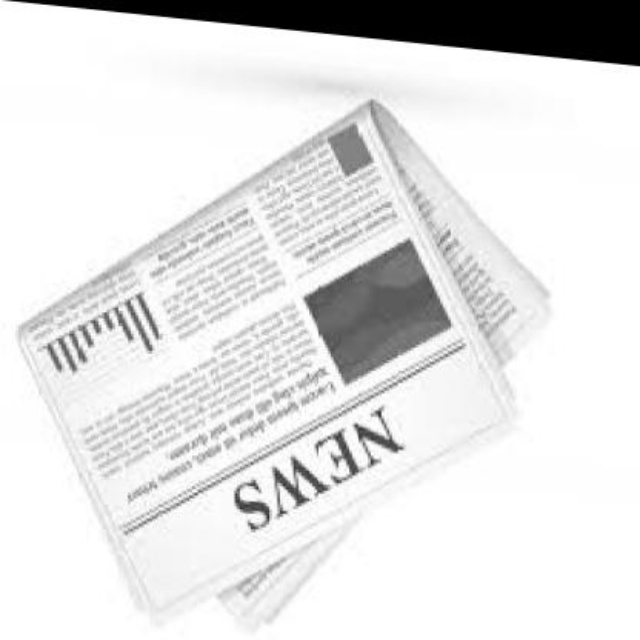trash: (18, 100, 548, 625)
